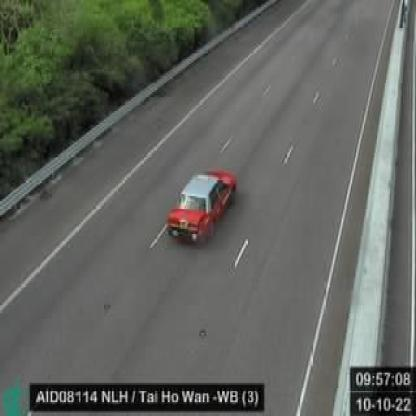Car: (163, 167, 238, 246)
